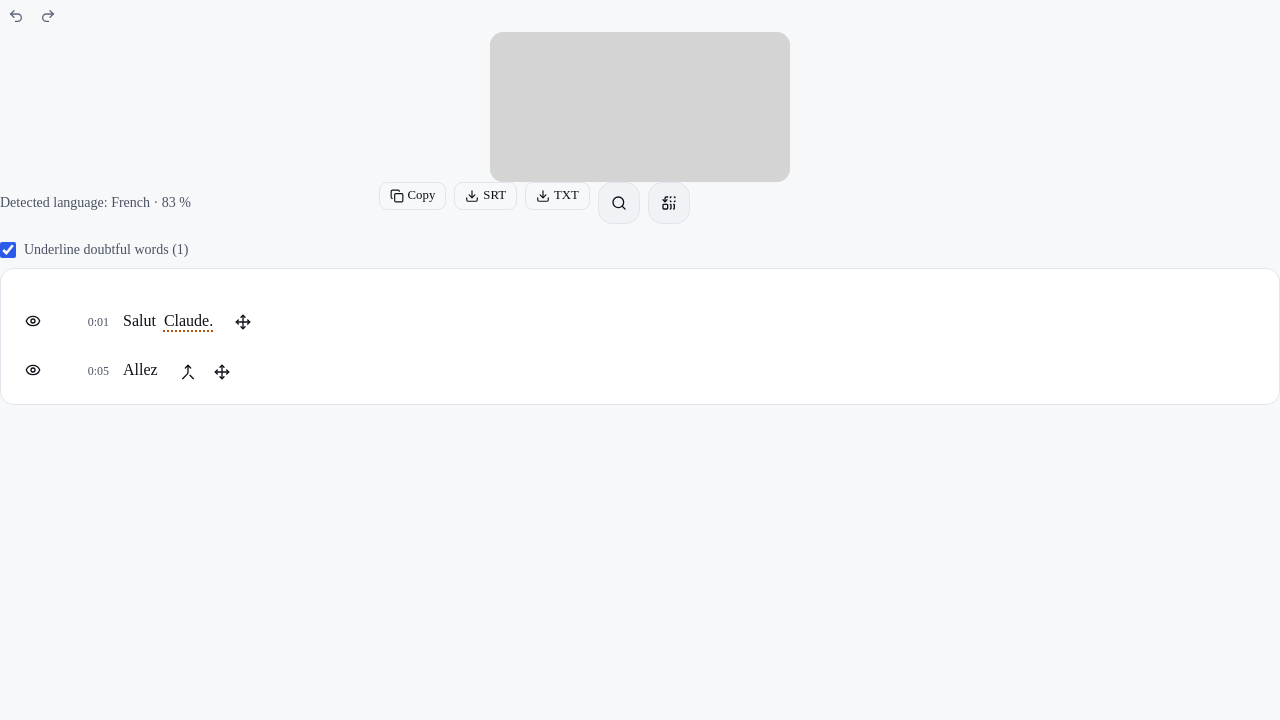
it: TranscriptView › keeps the typed words when the panel is closed without replacing
Click the button named "Replace a word": (669,203) [651,185,687,221]
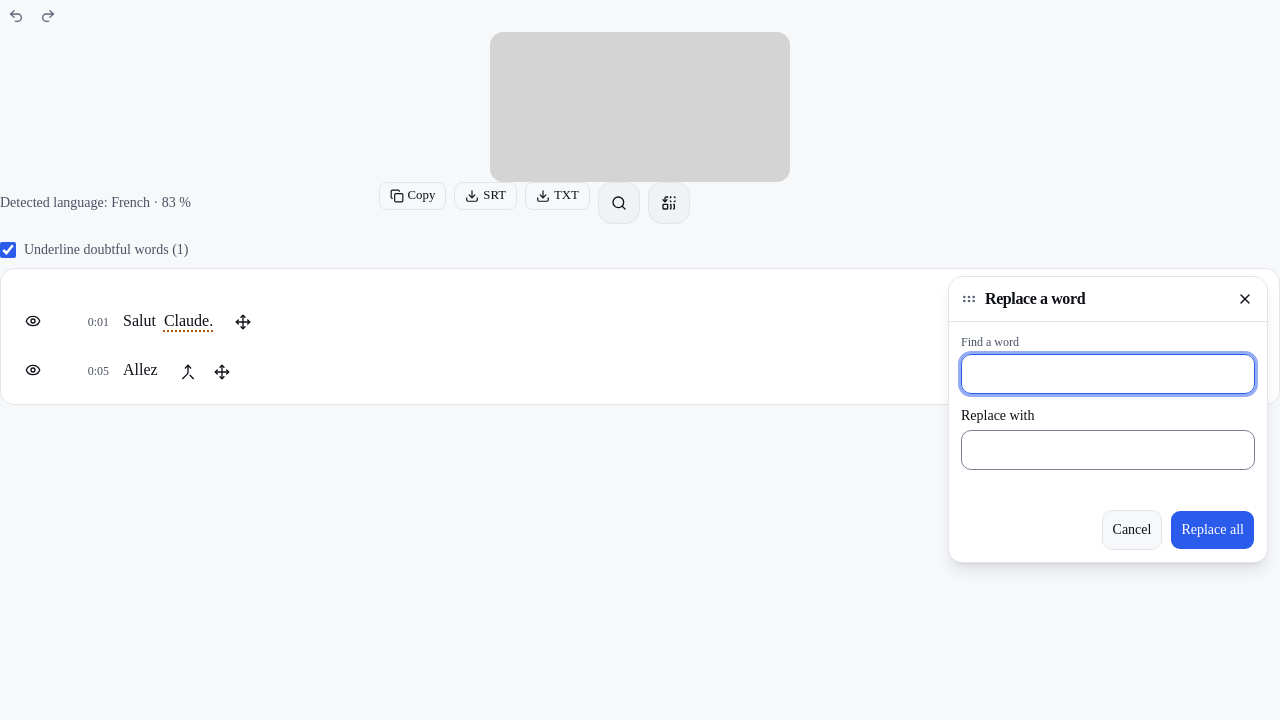
In the field labelled "Find a word": (1108,374) [961,354,1255,394], type "salut"
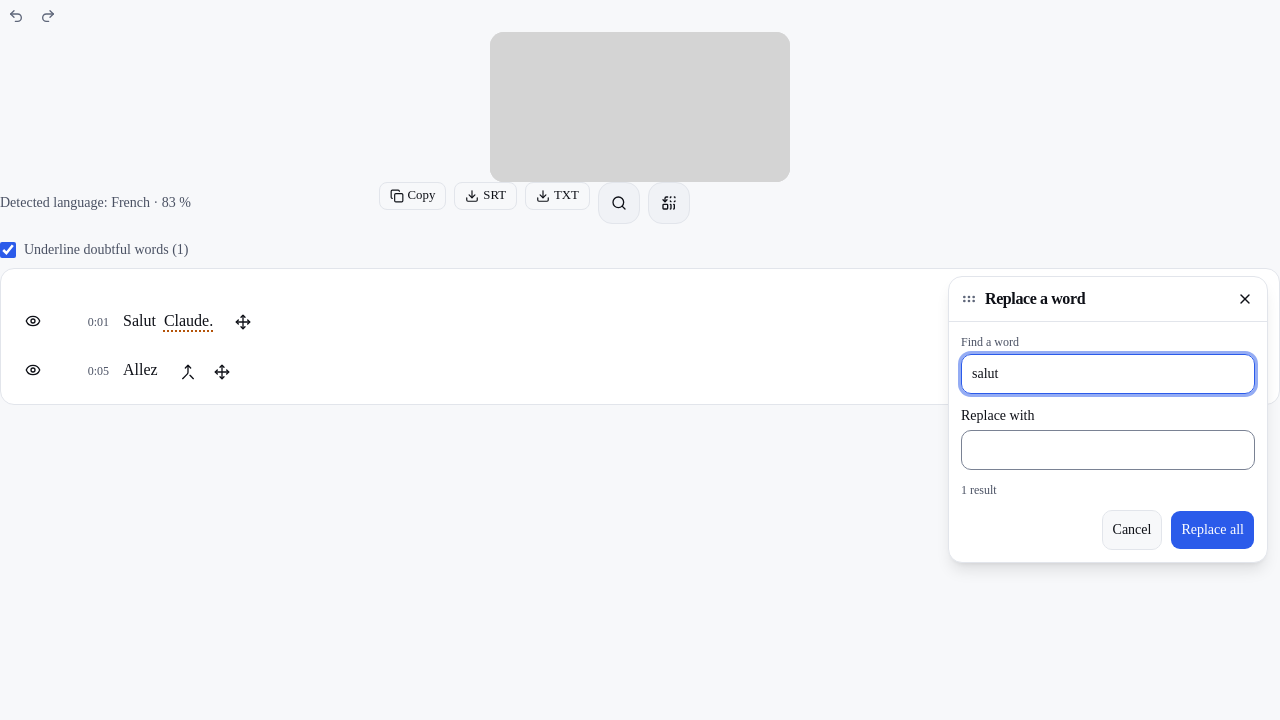
In the field labelled "Replace with": (1108,450) [961,430,1255,470], type "bonjour"
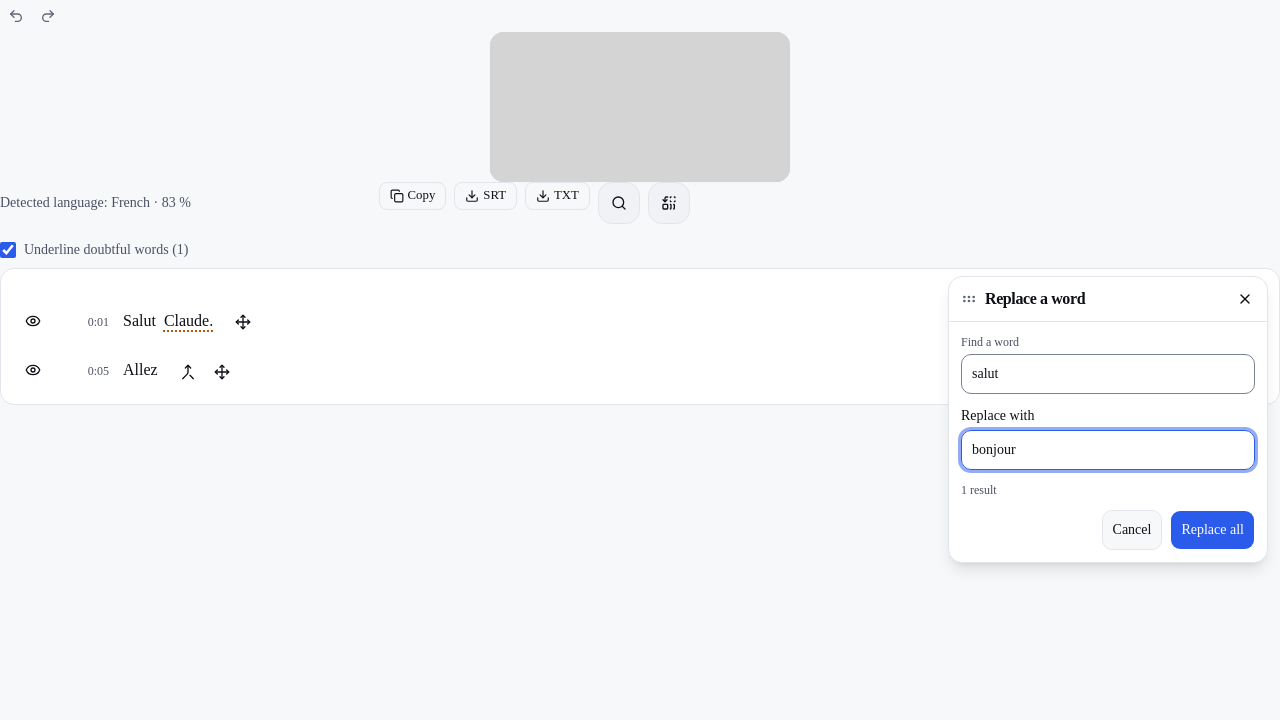
Click the button named "Close": (1245,299) [1227,281,1263,317]
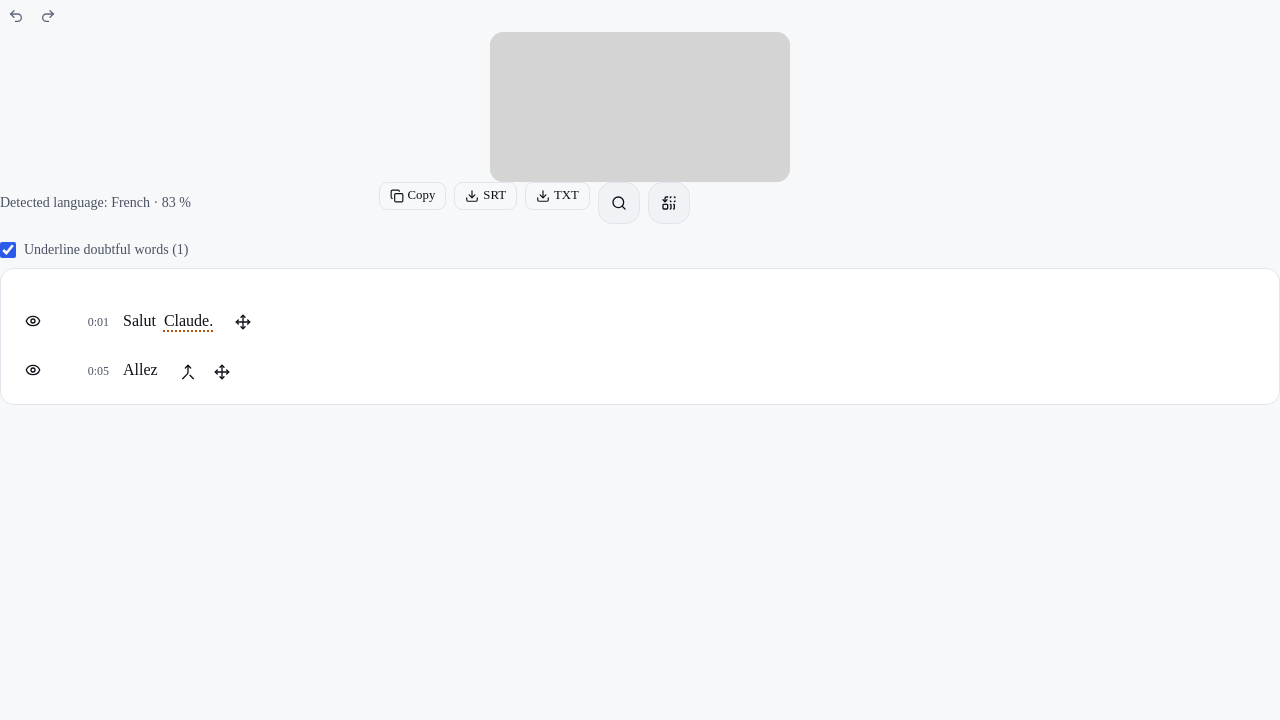
Click the button named "Replace a word": (669,203) [651,185,687,221]
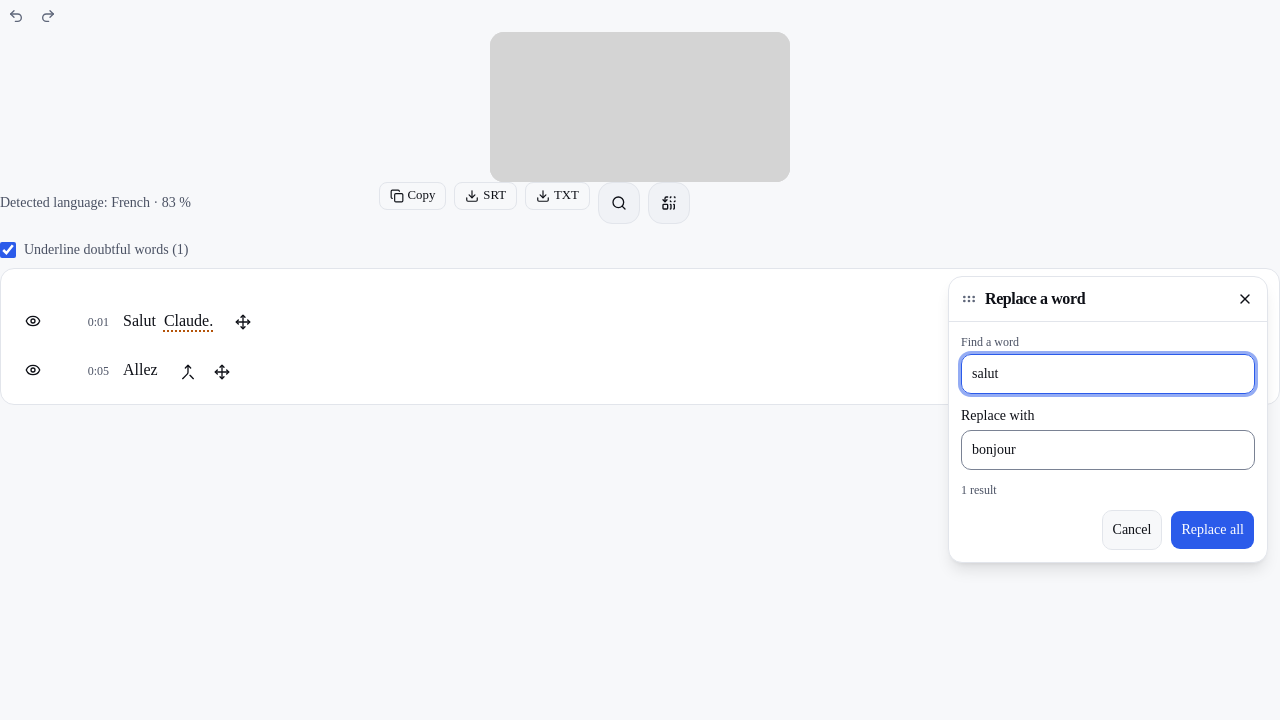
Check: the field labelled "Find a word" holds "salut", box [961,354,1255,394]
Check: the field labelled "Replace with" holds "bonjour", box [961,430,1255,470]
